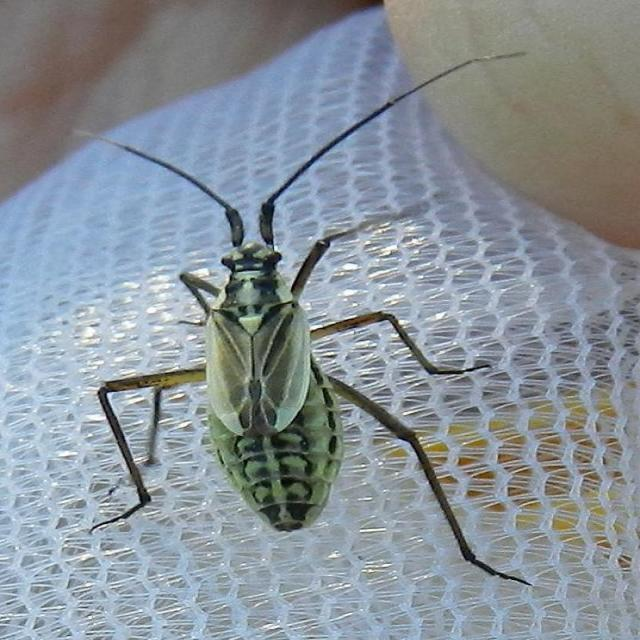Miridae-Adult-: (49, 47, 545, 591)
